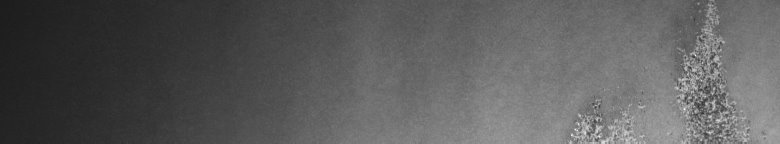hc: (569, 4, 752, 136)
